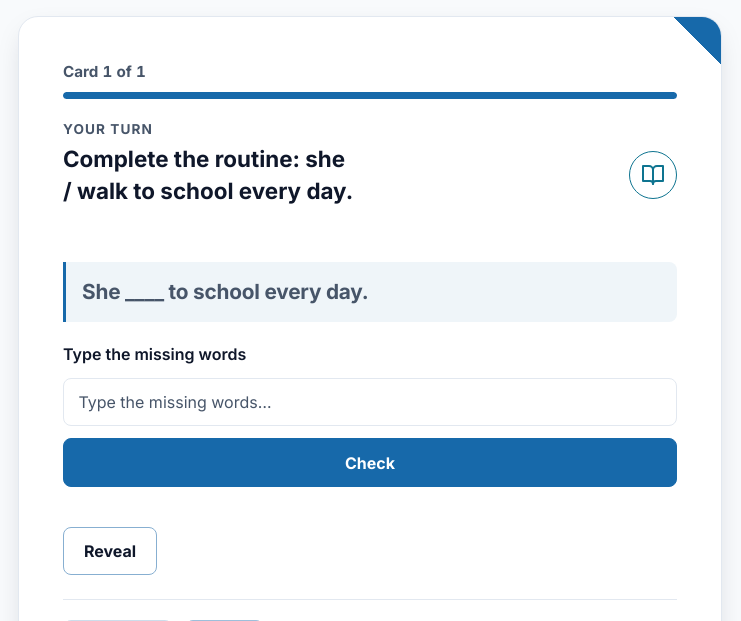
Test case: VerbTensesPracticeClient › comprueba con Enter dentro del input
Step 1. Type "walks" into the field labelled "Type the missing words" → (370, 402), box [63,378,677,426]
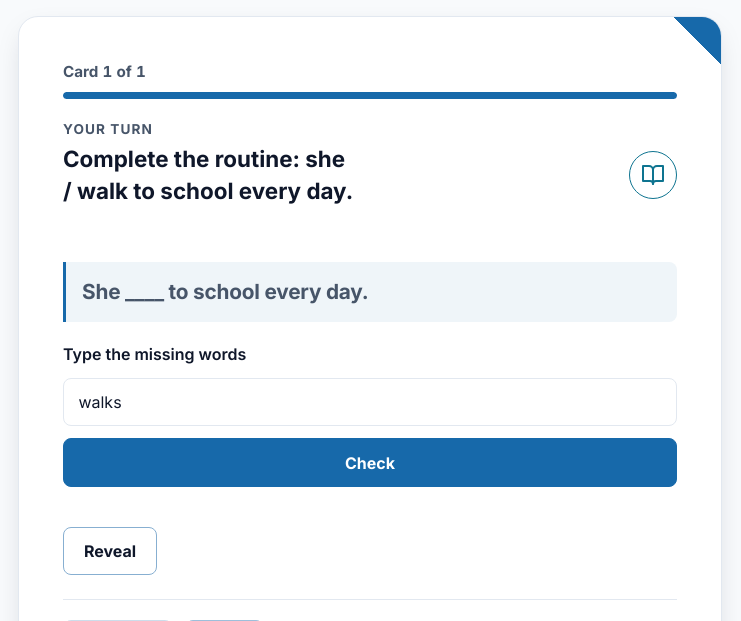
Step 2. Press Enter in the field labelled "Type the missing words", box [63,378,677,426]
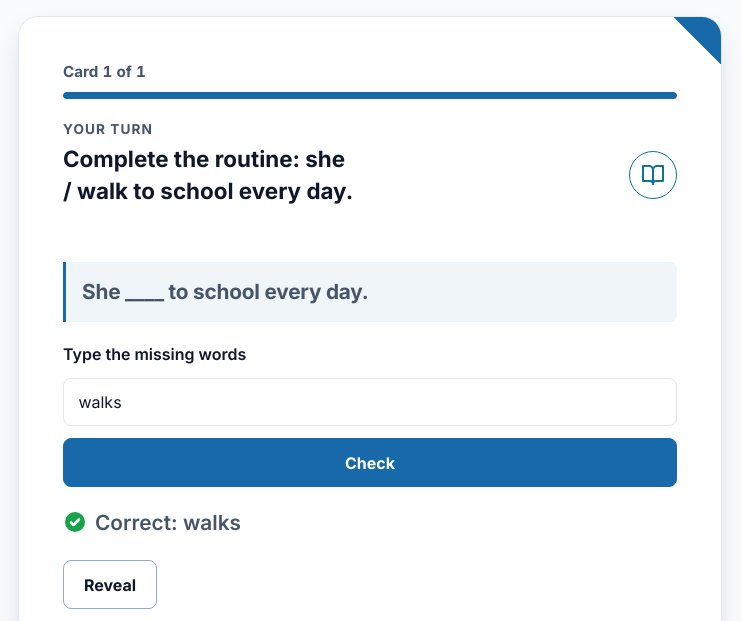
Check: the text "Correct: walks" is shown, box [95,507,241,538]
